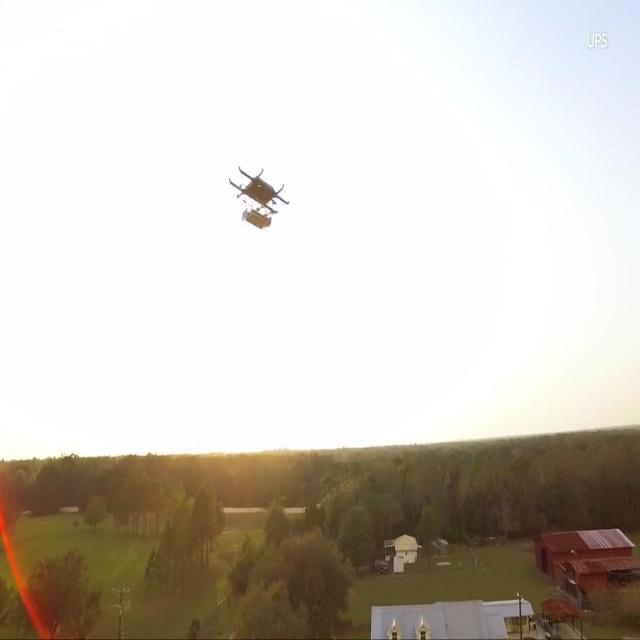UAV: (228, 167, 290, 230)
